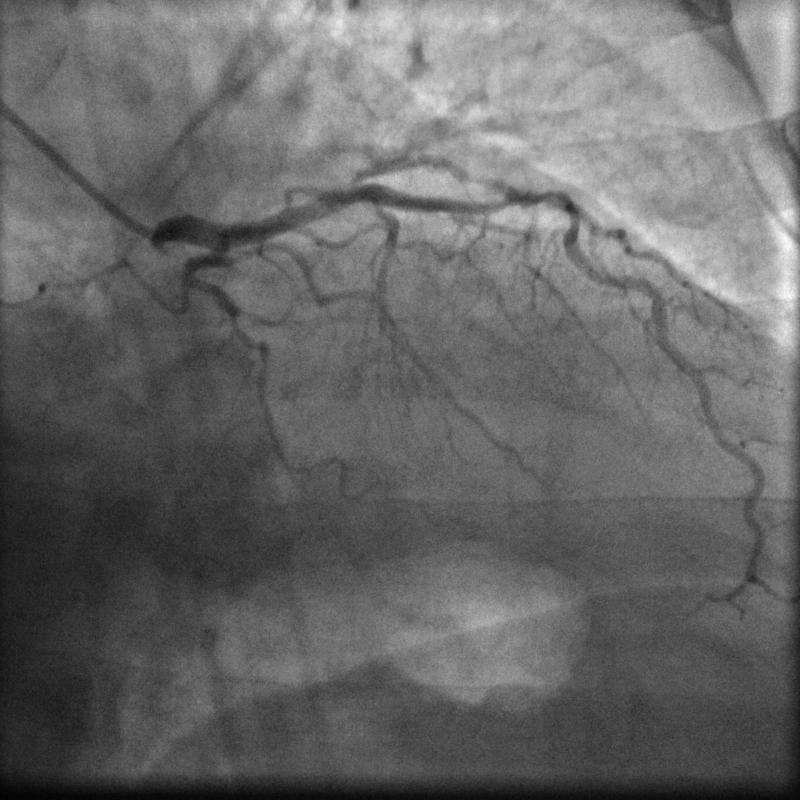Stenosis: (497, 180, 590, 228)
